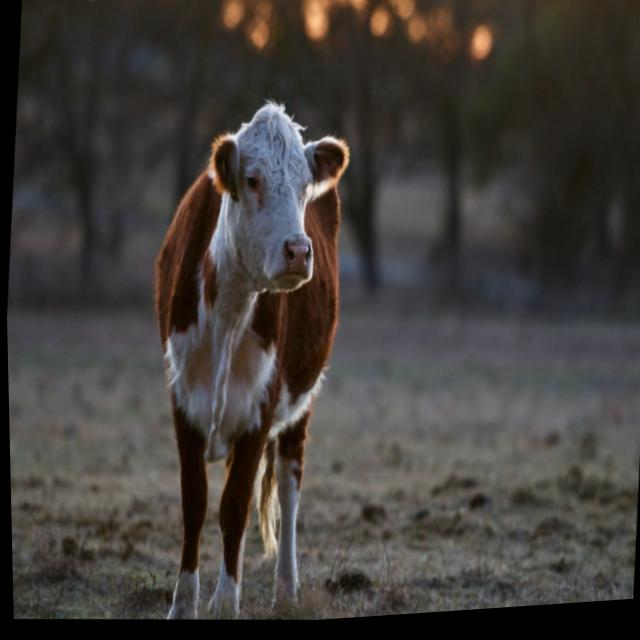cowFace: (196, 92, 359, 314)
